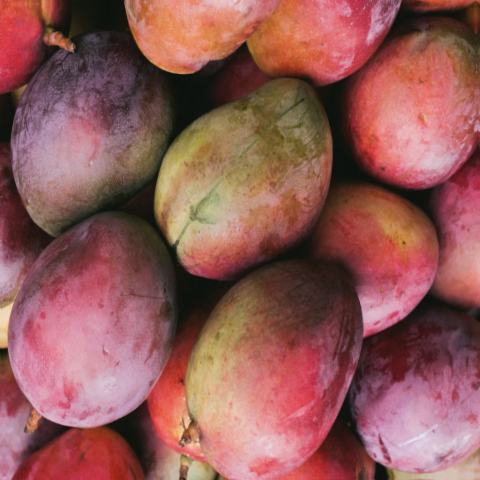mango: (163, 248, 388, 480), (0, 208, 182, 458), (131, 86, 358, 284), (0, 25, 185, 242)
